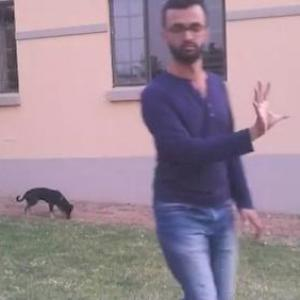follow_hand: (245, 75, 292, 135)
